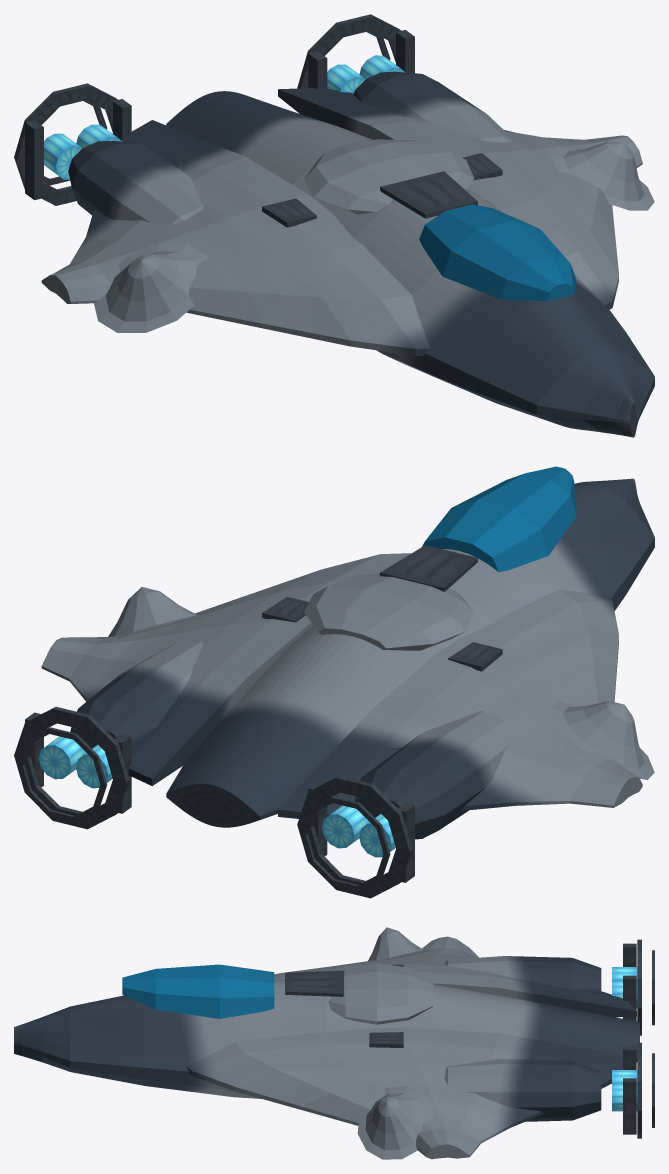
Rendered from spaceship_fastElite.obj.
The picture shows the model from 3 angles, top to bottom: view 1: azimuth 30°, elevation 25°; view 2: azimuth 150°, elevation 25°; view 3: azimuth 270°, elevation 25°; orthographic projection. The views are drawn at different scales.
Visible parts, largest first — view 1: spaceship_fastElite; view 2: spaceship_fastElite; view 3: spaceship_fastElite.
Part boxes in pixels (left/top/right/bottom): spaceship_fastElite: left=14, top=14, right=654, bottom=437; spaceship_fastElite: left=14, top=466, right=654, bottom=898; spaceship_fastElite: left=14, top=927, right=654, bottom=1159.
Bounding box in the file's own units: 4.2 × 1.16 × 5.48.
1 material, 1 textured.
